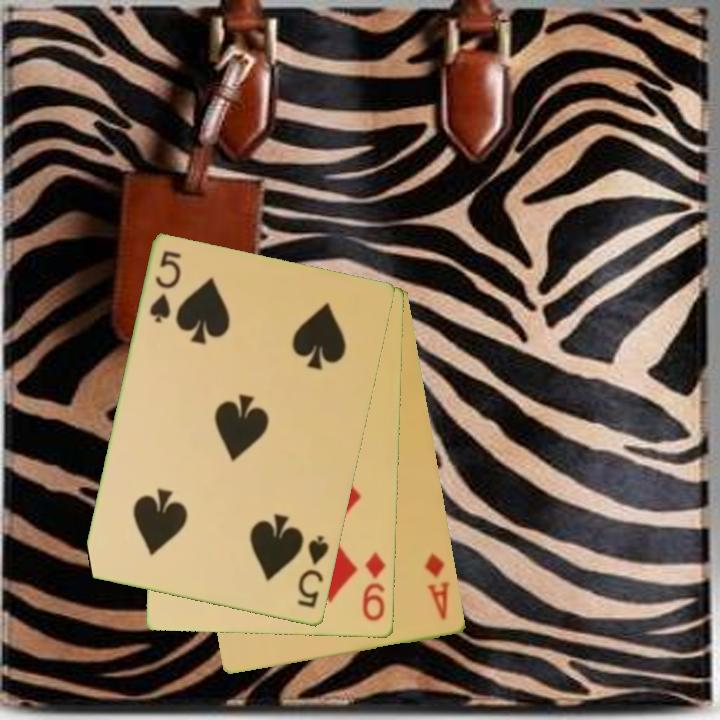5s: (146, 247, 185, 327), (294, 532, 332, 612)
9d: (359, 548, 389, 624)
Ad: (422, 550, 453, 623)
